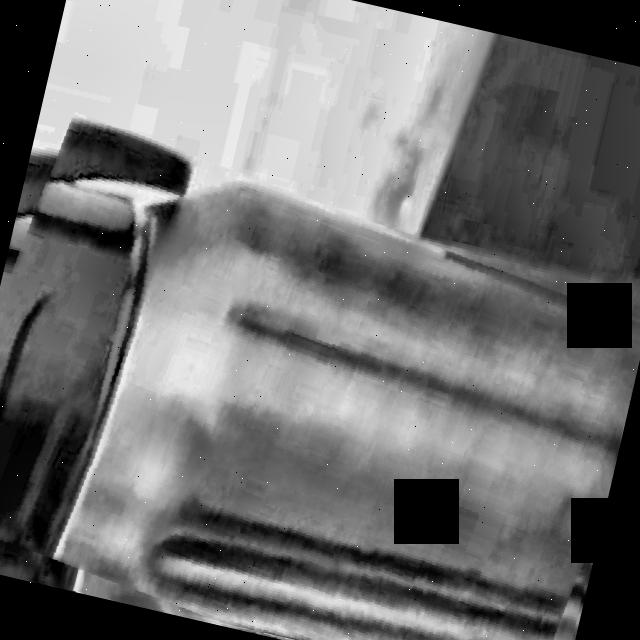bottle: (0, 116, 640, 640)
